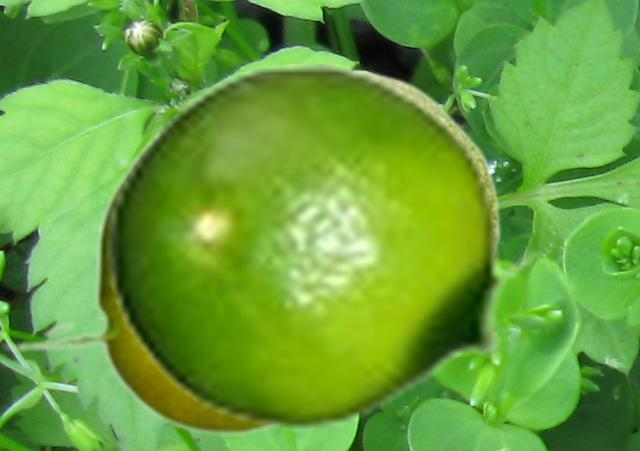calamansi: (104, 64, 546, 431), (1, 130, 280, 435)
